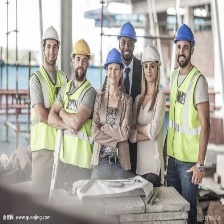helmet: (118, 22, 138, 40), (174, 26, 196, 40), (73, 40, 91, 56), (41, 26, 60, 41), (142, 46, 160, 61), (105, 48, 123, 63)
no-vest: (98, 89, 129, 167), (137, 90, 163, 170)
person: (170, 24, 209, 201), (27, 22, 62, 189), (95, 48, 133, 179), (63, 36, 95, 182), (131, 47, 167, 176)
vest: (56, 84, 92, 167), (170, 73, 201, 161), (32, 69, 65, 150)
